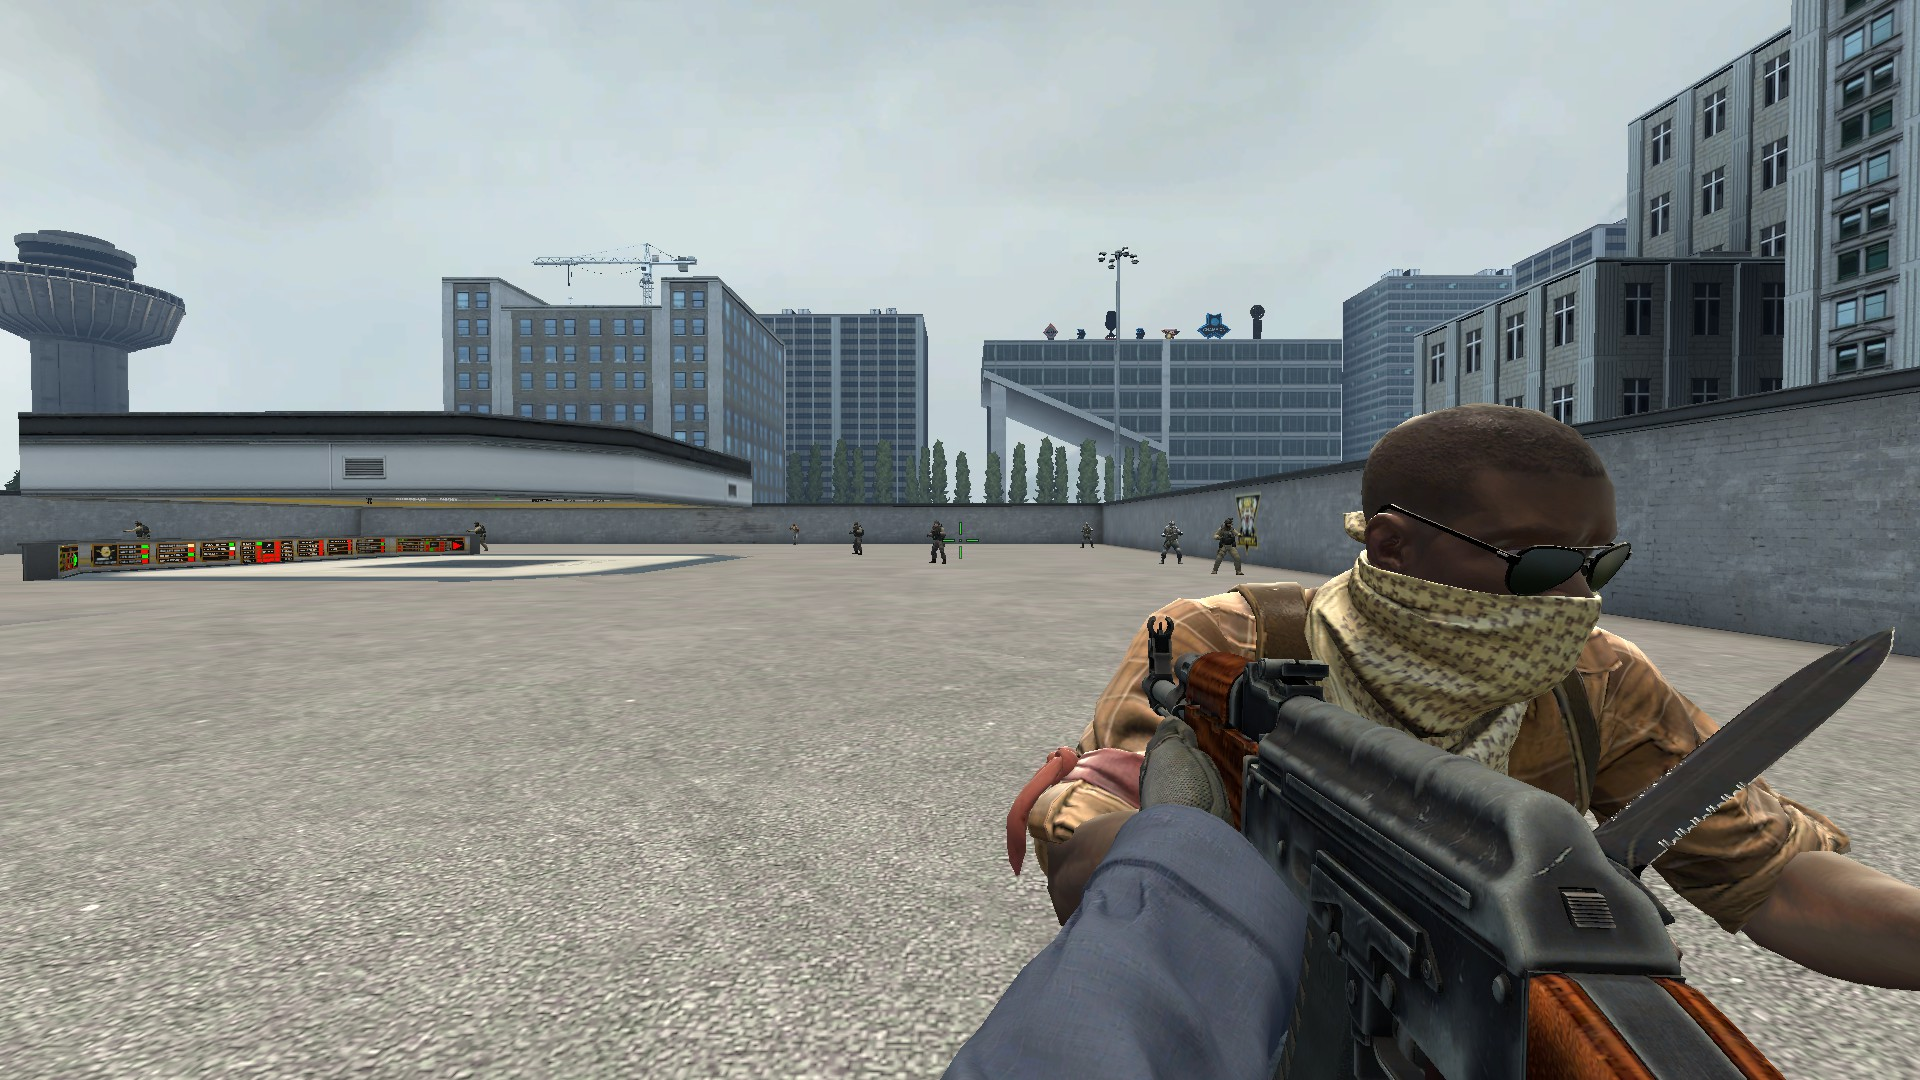tr: (1028, 400, 1920, 994)
tr head: (1342, 399, 1645, 721)
